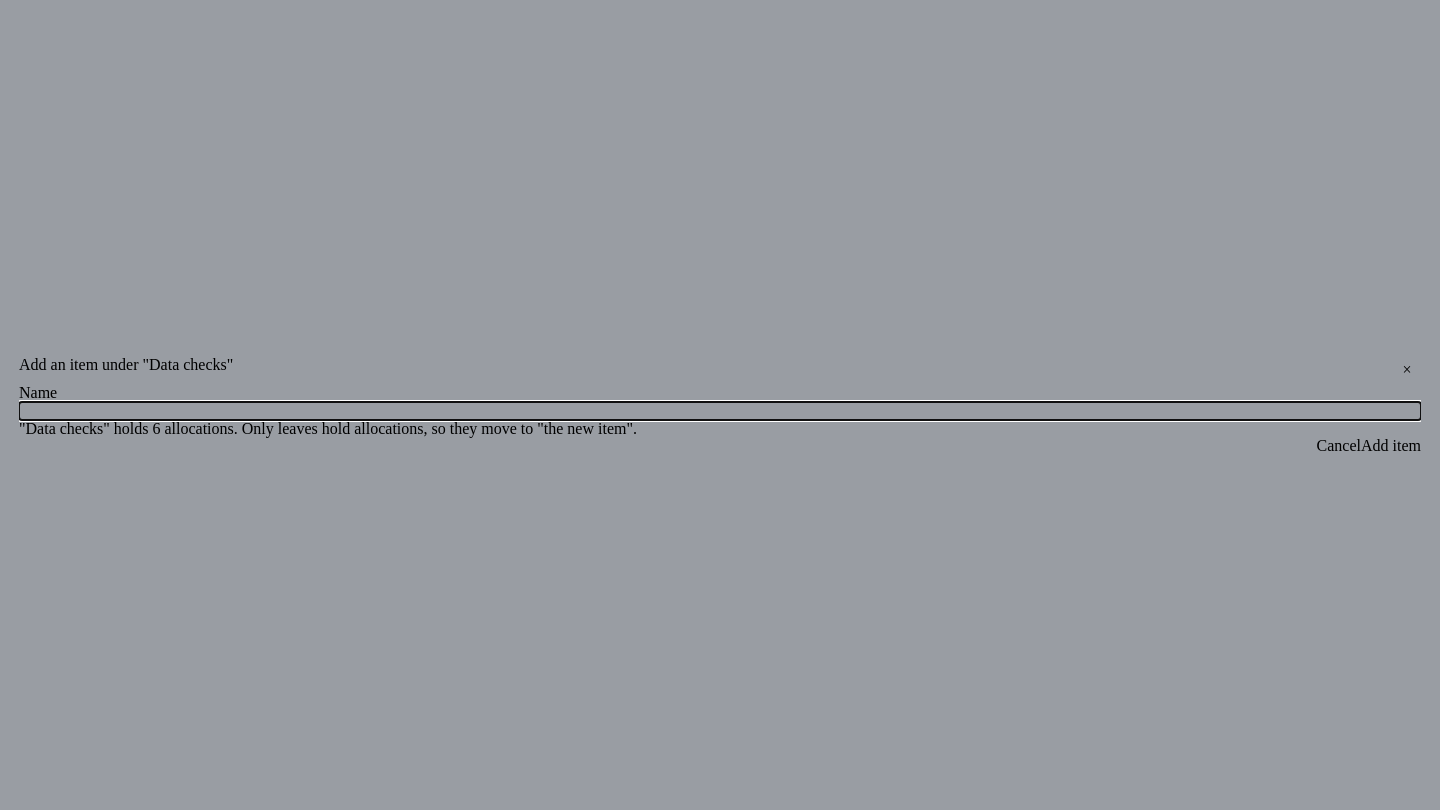
Scenario: AddChildItem › asks for a name next to the field instead of sending an empty one
The image size is (1440, 810).
Click the button "Add item": {"x": 1391, "y": 446} [1361,438,1421,454]
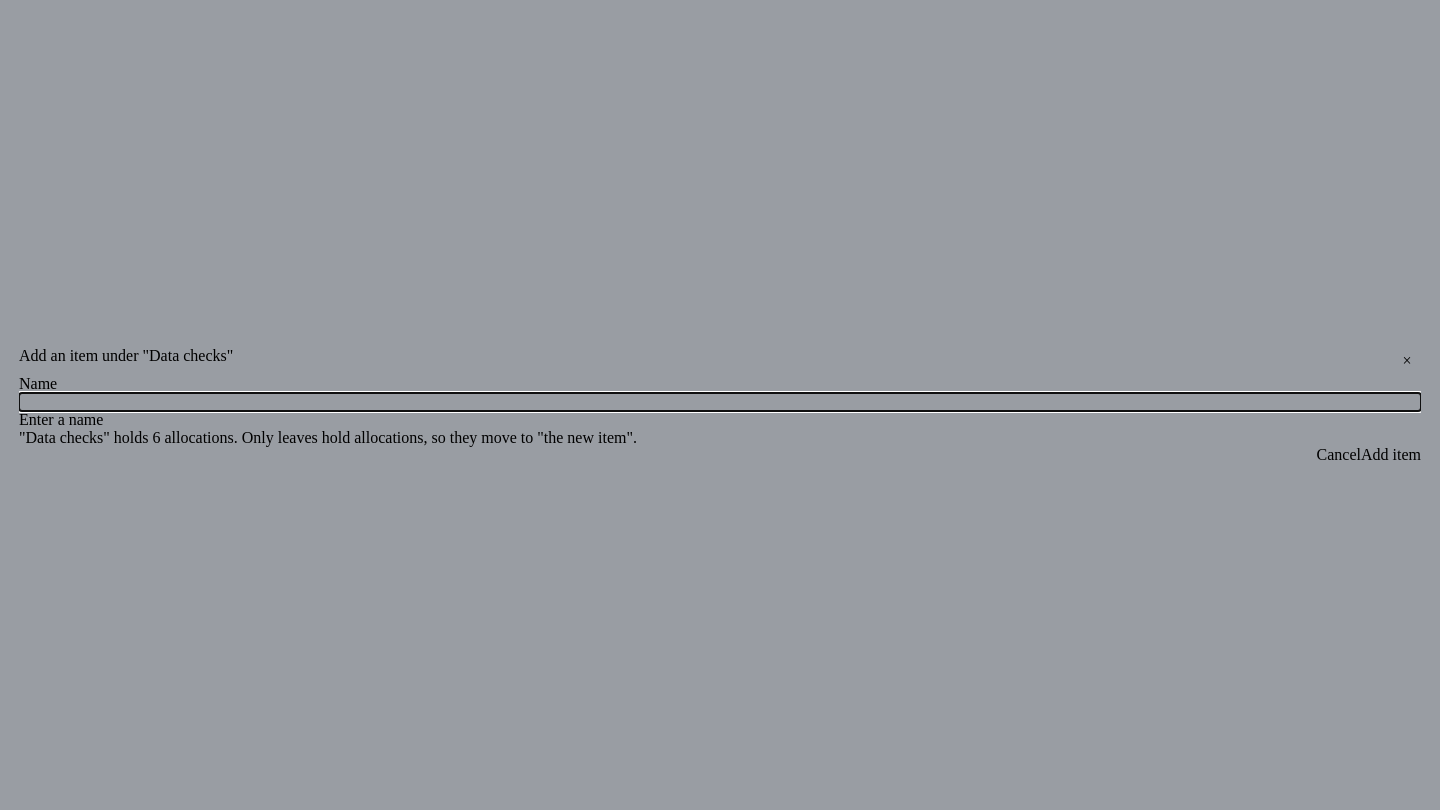
expect the text "Enter a name" is shown: met, box [19,411,103,428]
